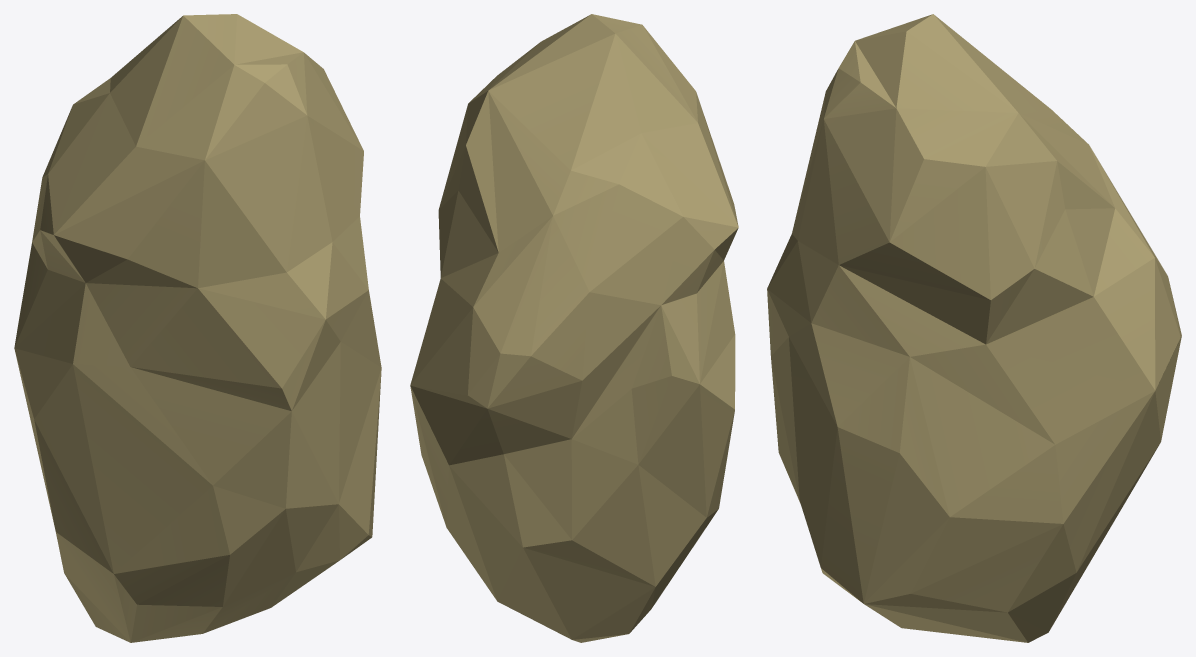
Rendered from SM_small_rock_55.fbx.
The picture shows the model from 3 angles, left to right: view 1: azimuth 30°, elevation 25°; view 2: azimuth 150°, elevation 25°; view 3: azimuth 270°, elevation 25°; orthographic projection. The views are drawn at different scales.
Parts seen in each view (by area): view 1: small_rock_55; view 2: small_rock_55; view 3: small_rock_55.
Boxes of the visible parts, x1,y1,x2,y2 form: small_rock_55: (14,14,381,642); small_rock_55: (410,14,738,642); small_rock_55: (767,14,1181,642).
Bounding box in the file's own units: 83.53 × 164 × 98.78.
